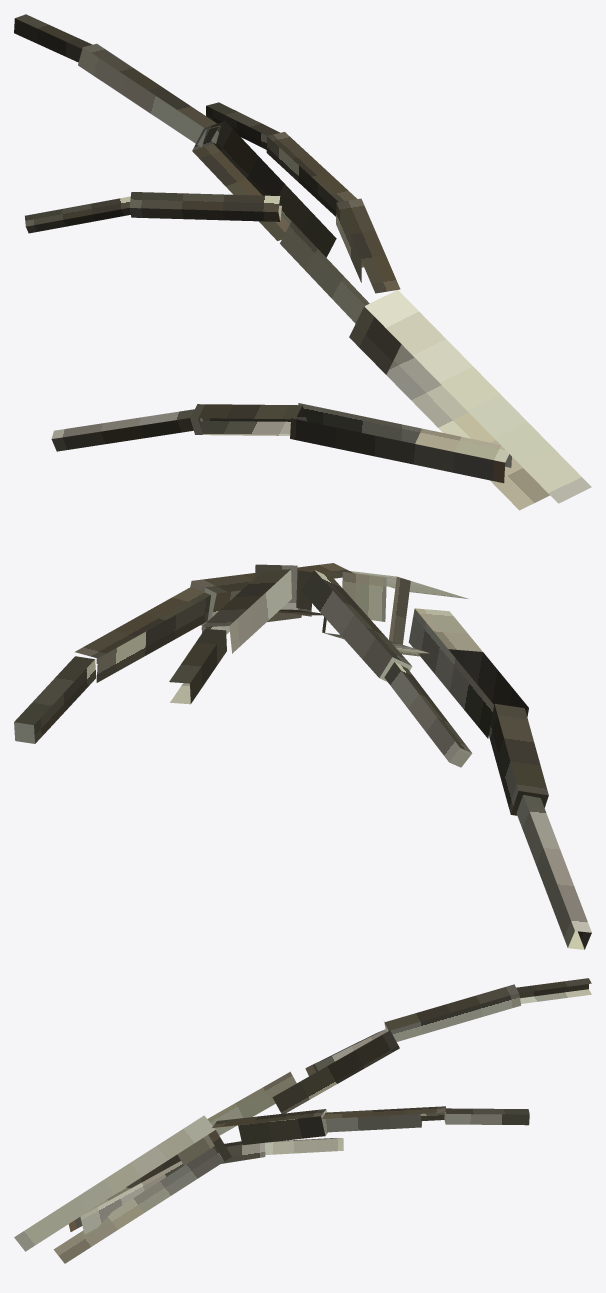
Rendered from birch_twig_branch_up_5.obj.
3 views of the same model, one above another, from view 1: azimuth 30°, elevation 25°; view 2: azimuth 150°, elevation 25°; view 3: azimuth 270°, elevation 25° (orthographic). The views are drawn at different scales.
Parts seen in each view (by area): view 1: cube; view 2: cube; view 3: cube.
Part boxes in pixels (x1=…): cube: x1=14, y1=14, x2=591, y2=510; cube: x1=14, y1=563, x2=591, y2=949; cube: x1=14, y1=978, x2=591, y2=1263.
Bounding box in the file's own units: 1.19 × 0.9828 × 2.28.
